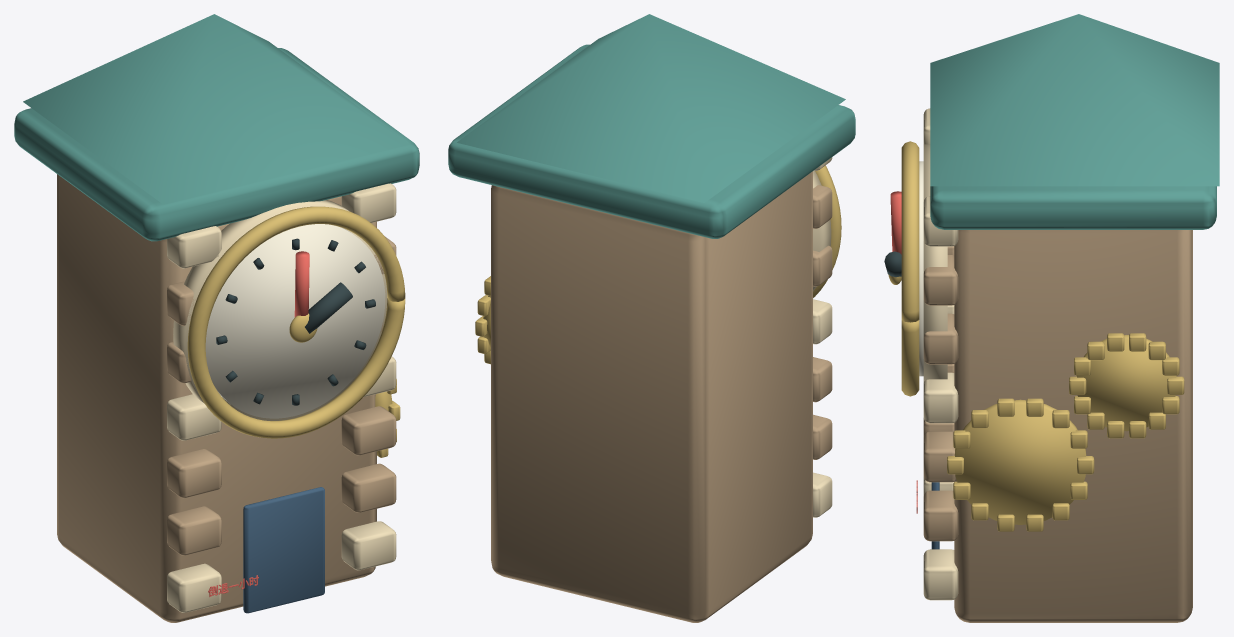
The model's file is X01_Reversing_School_Clock_Tower.glb.
3 renders of one model, left to right at view 1: azimuth 30°, elevation 25°; view 2: azimuth 150°, elevation 25°; view 3: azimuth 270°, elevation 25°, orthographic. The views are drawn at different scales.
Visible parts, largest first — view 1: X01_TOWER_STATIC | Old school clock tower deep sandstone str, X01_TOWER_STATIC | Aged green patina roof weather copper, X01 painted ivory school clock numbered dial, X01 raised huge brass campus clock round dial frame, X01_TOWER_STATIC | School landmark limestone trim cream text, X01 building true recessed front principal arched entrance, X01 massive original school stone clock housing, X01_CLOCK_DIAL_ACTOR | Clock graphite-black numerals and han, X01 physically moving short brass hour hand, X01 physically moving long reverse-time clock minute hand, X01_GEARS_ACTOR | Clock tower solid brass timeworks gear; view 2: X01_TOWER_STATIC | Old school clock tower deep sandstone str, X01_TOWER_STATIC | Aged green patina roof weather copper, X01_TOWER_STATIC | School landmark limestone trim cream text, X01 raised huge brass campus clock round dial frame, X01_GEARS_ACTOR | Clock tower solid brass timeworks gear, X01 massive original school stone clock housing; view 3: X01_TOWER_STATIC | Old school clock tower deep sandstone str, X01_TOWER_STATIC | Aged green patina roof weather copper, X01_GEARS_ACTOR | Clock tower solid brass timeworks gear, X01_TOWER_STATIC | School landmark limestone trim cream text, X01 raised huge brass campus clock round dial frame, X01 massive original school stone clock housing, X01 painted ivory school clock numbered dial, X01 physically moving long reverse-time clock minute hand.
Boxes of the visible parts, <box> form: X01_TOWER_STATIC | Old school clock tower deep sandstone str: <box>57,174,396,622</box>; X01_TOWER_STATIC | Aged green patina roof weather copper: <box>14,14,419,241</box>; X01 painted ivory school clock numbered dial: <box>205,224,385,418</box>; X01 raised huge brass campus clock round dial frame: <box>187,206,405,438</box>; X01_TOWER_STATIC | School landmark limestone trim cream text: <box>167,183,396,612</box>; X01 building true recessed front principal arched entrance: <box>243,487,324,613</box>; X01 massive original school stone clock housing: <box>173,200,387,420</box>; X01_CLOCK_DIAL_ACTOR | Clock graphite-black numerals and han: <box>216,238,375,405</box>; X01 physically moving short brass hour hand: <box>305,282,352,333</box>; X01 physically moving long reverse-time clock minute hand: <box>294,251,309,317</box>; X01_GEARS_ACTOR | Clock tower solid brass timeworks gear: <box>375,379,400,457</box>; X01_TOWER_STATIC | Old school clock tower deep sandstone str: <box>491,171,832,622</box>; X01_TOWER_STATIC | Aged green patina roof weather copper: <box>448,14,855,238</box>; X01_TOWER_STATIC | School landmark limestone trim cream text: <box>813,157,832,517</box>; X01 raised huge brass campus clock round dial frame: <box>813,165,841,297</box>; X01_GEARS_ACTOR | Clock tower solid brass timeworks gear: <box>475,276,490,364</box>; X01 massive original school stone clock housing: <box>813,171,831,291</box>; X01_TOWER_STATIC | Old school clock tower deep sandstone str: <box>923,230,1192,622</box>; X01_TOWER_STATIC | Aged green patina roof weather copper: <box>930,14,1219,229</box>; X01_GEARS_ACTOR | Clock tower solid brass timeworks gear: <box>947,333,1184,531</box>; X01_TOWER_STATIC | School landmark limestone trim cream text: <box>923,108,958,600</box>; X01 raised huge brass campus clock round dial frame: <box>901,141,919,396</box>; X01 massive original school stone clock housing: <box>923,144,947,382</box>; X01 painted ivory school clock numbered dial: <box>919,161,923,376</box>; X01 physically moving long reverse-time clock minute hand: <box>890,191,901,254</box>.
Bounding box in the file's own units: 1.23 × 2.33 × 1.26.
